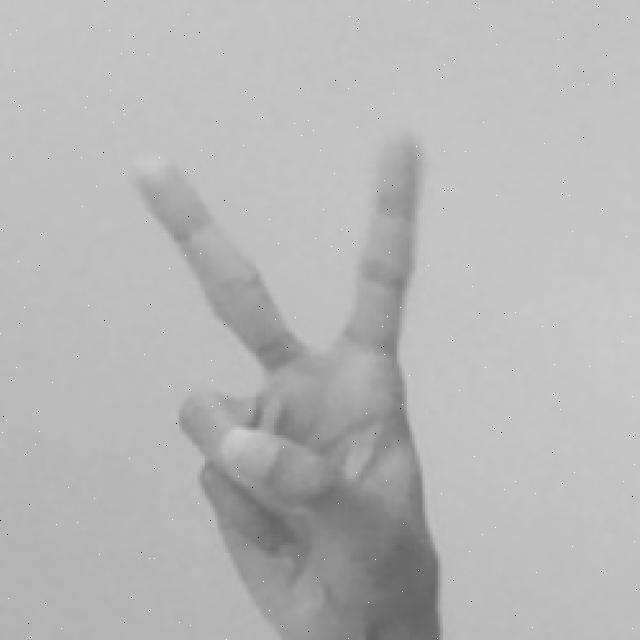V: (115, 114, 447, 640)
